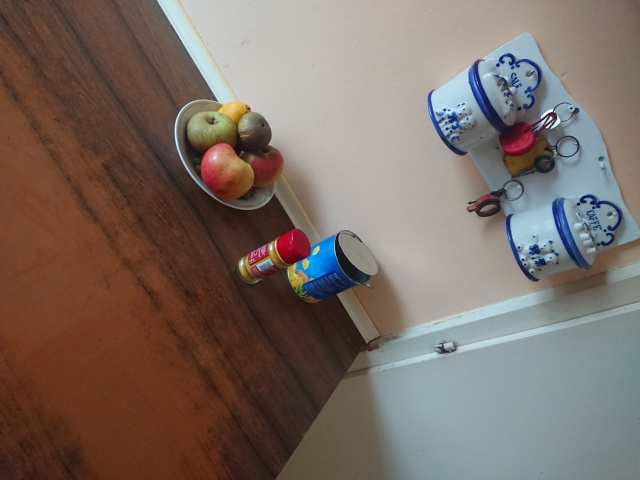Kotanyi Curry Spices Mix 70g: (235, 226, 313, 287)
